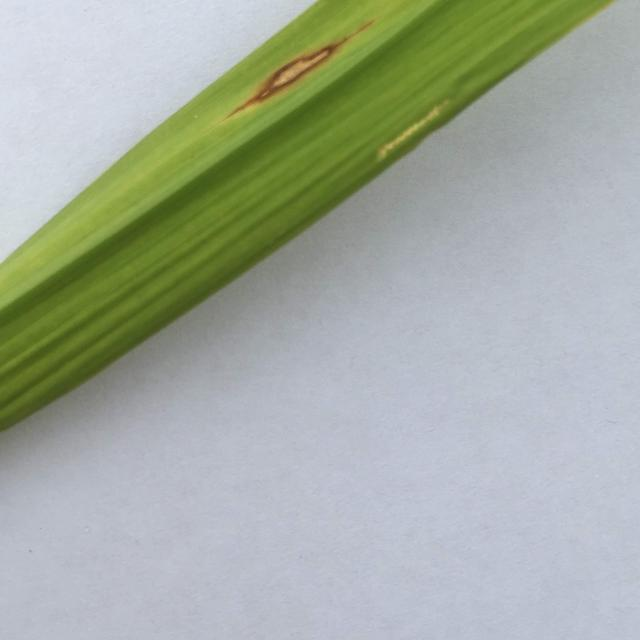Blast: (246, 41, 340, 102)
